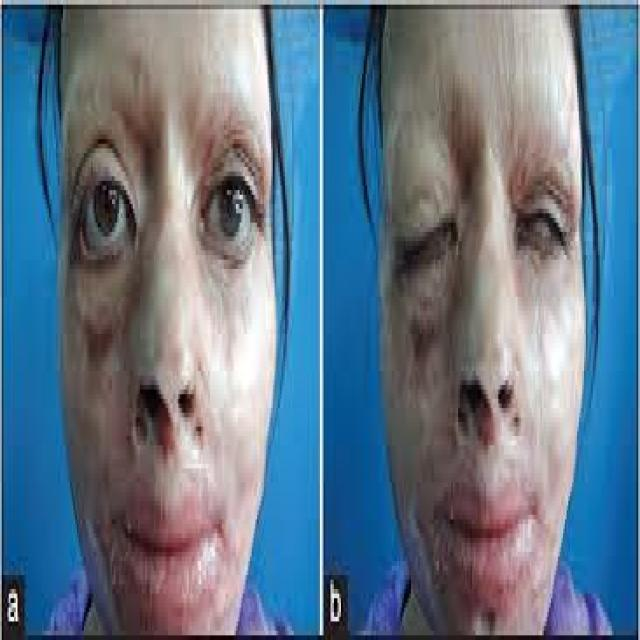burn: (60, 0, 276, 634), (381, 85, 585, 633)
